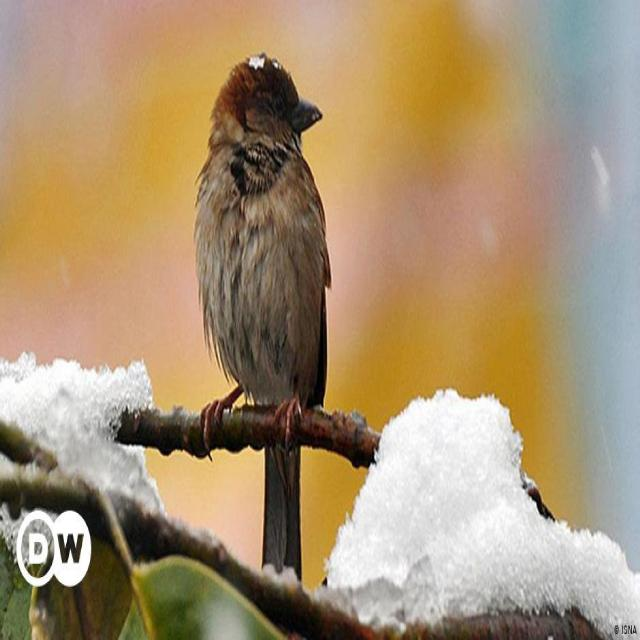Sparrow: (204, 42, 332, 580)
